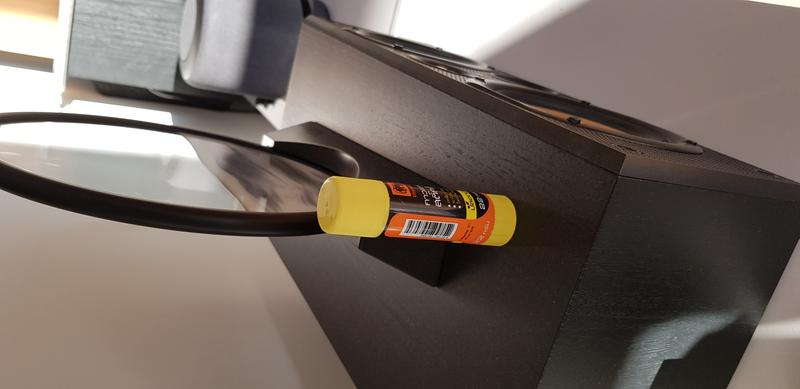Glue-Stick: (310, 173, 529, 254)
